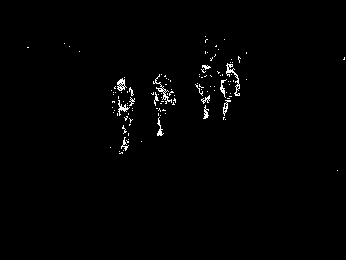person: (111, 78, 136, 155), (151, 73, 177, 138), (193, 65, 218, 120), (218, 65, 240, 121)
